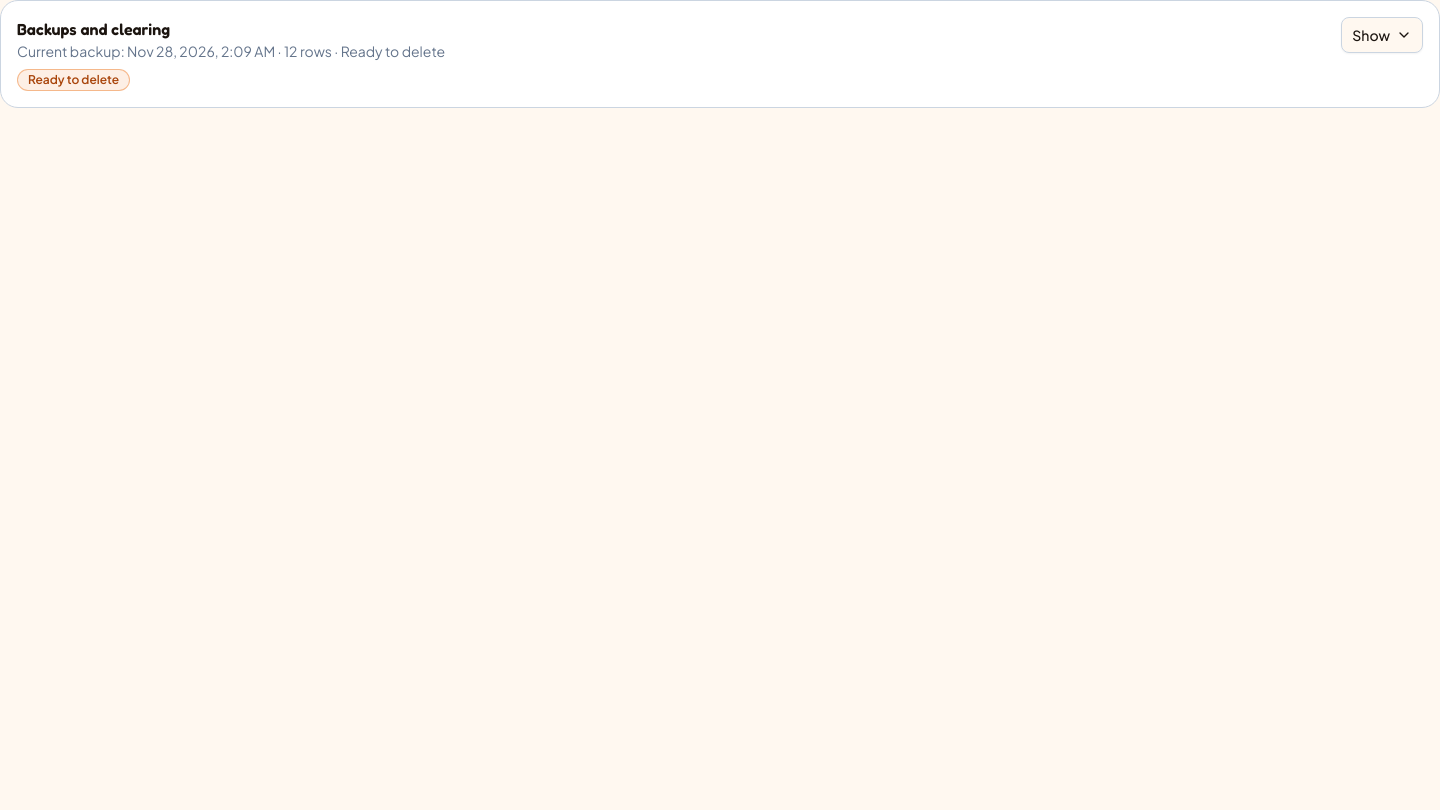
Test case: Activity Log backup panel › does not request deletion before every backup file is downloaded
Later steps or results of the test are not shown.
Expected: the text "Current backup:" is shown, [17,42,445,60]
Click the button with aria-label "Show backups and clearing" at (1382, 35), box [1341,17,1423,53]
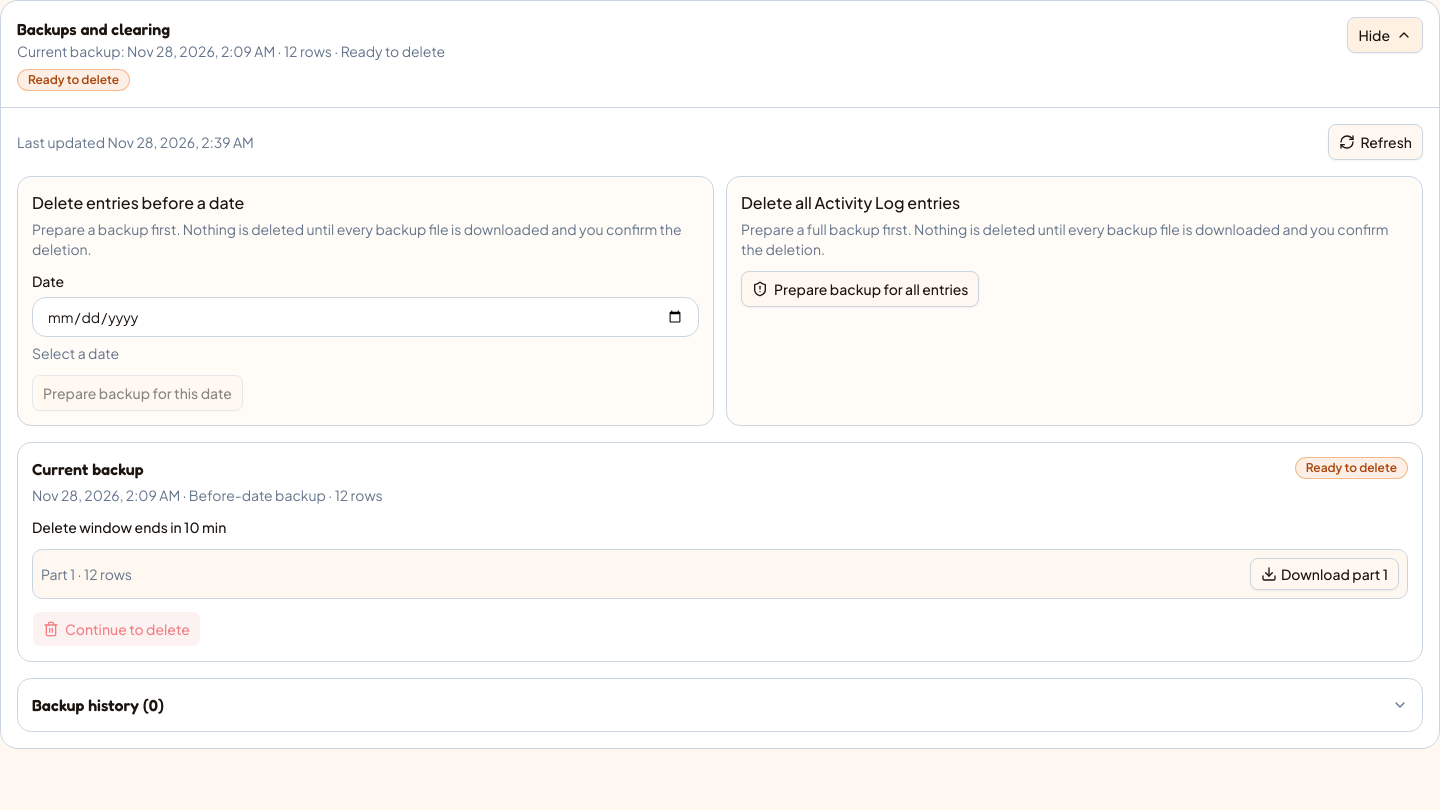
Expected: the button "Continue to delete" is disabled, [32,611,201,647]
